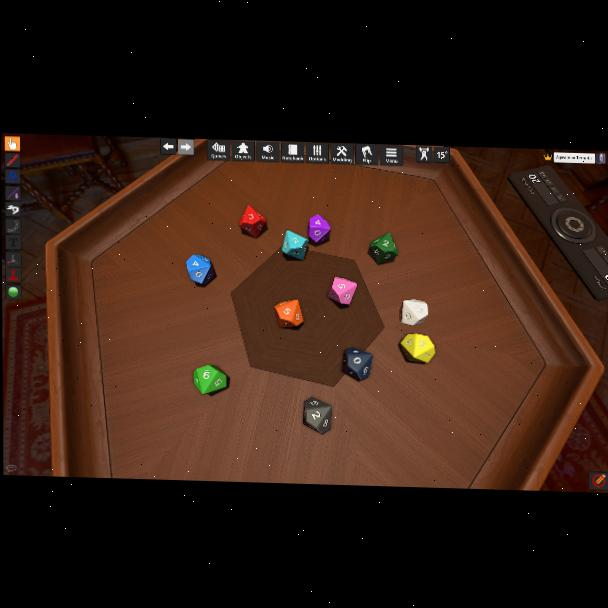d10: (304, 396, 334, 434), (194, 363, 228, 395), (185, 254, 215, 287), (400, 333, 431, 364), (342, 348, 371, 381), (239, 206, 266, 239), (370, 232, 396, 265), (276, 300, 305, 329), (281, 229, 307, 260), (328, 278, 356, 306), (400, 299, 426, 327), (308, 214, 330, 245)
